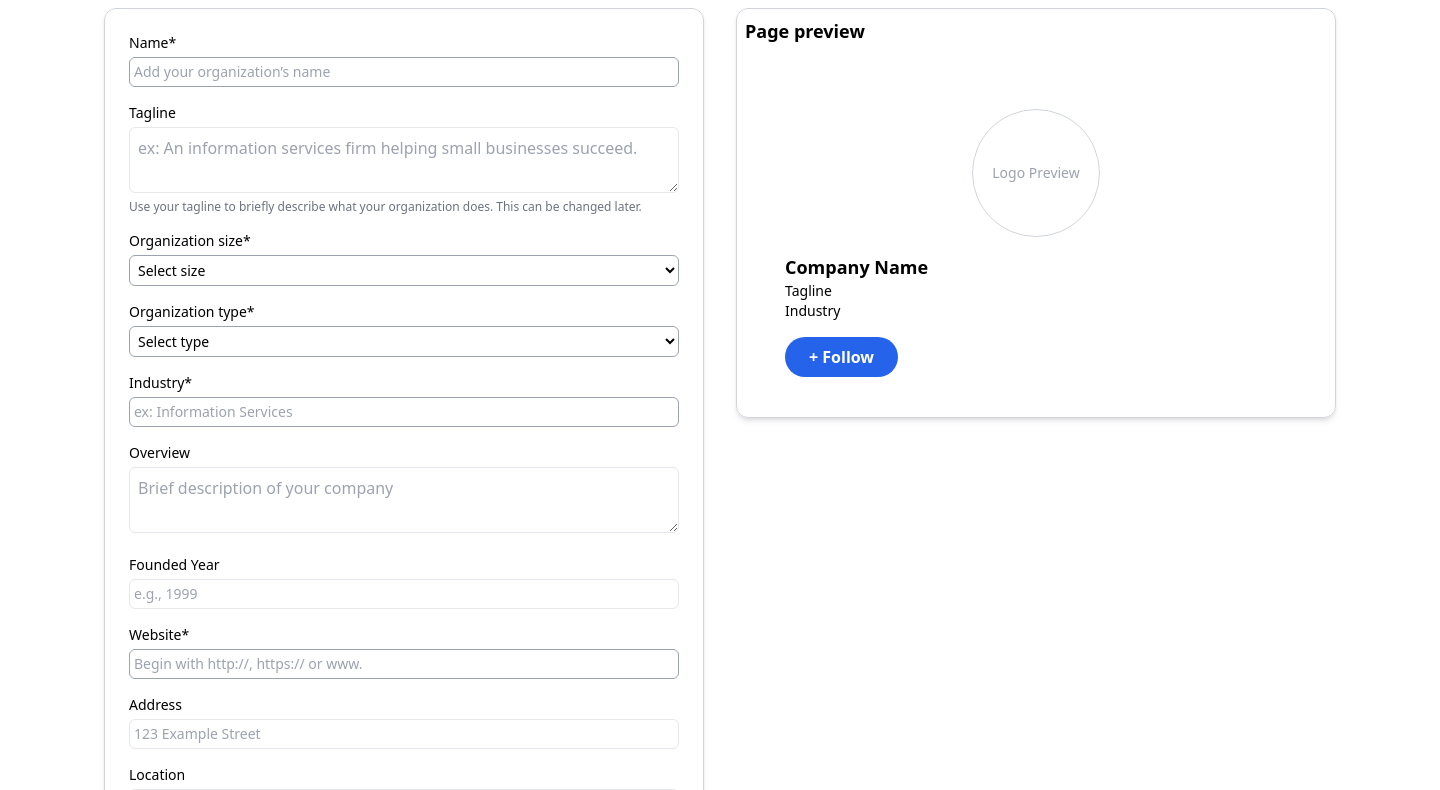
Test: CreateCompanyPage › shows error if email is missing
The image size is (1440, 790).
Type "Example Co" into the field with test id "company-name".
click(404, 72); type("Example Co")  # box x1=129 y1=57 x2=679 y2=87
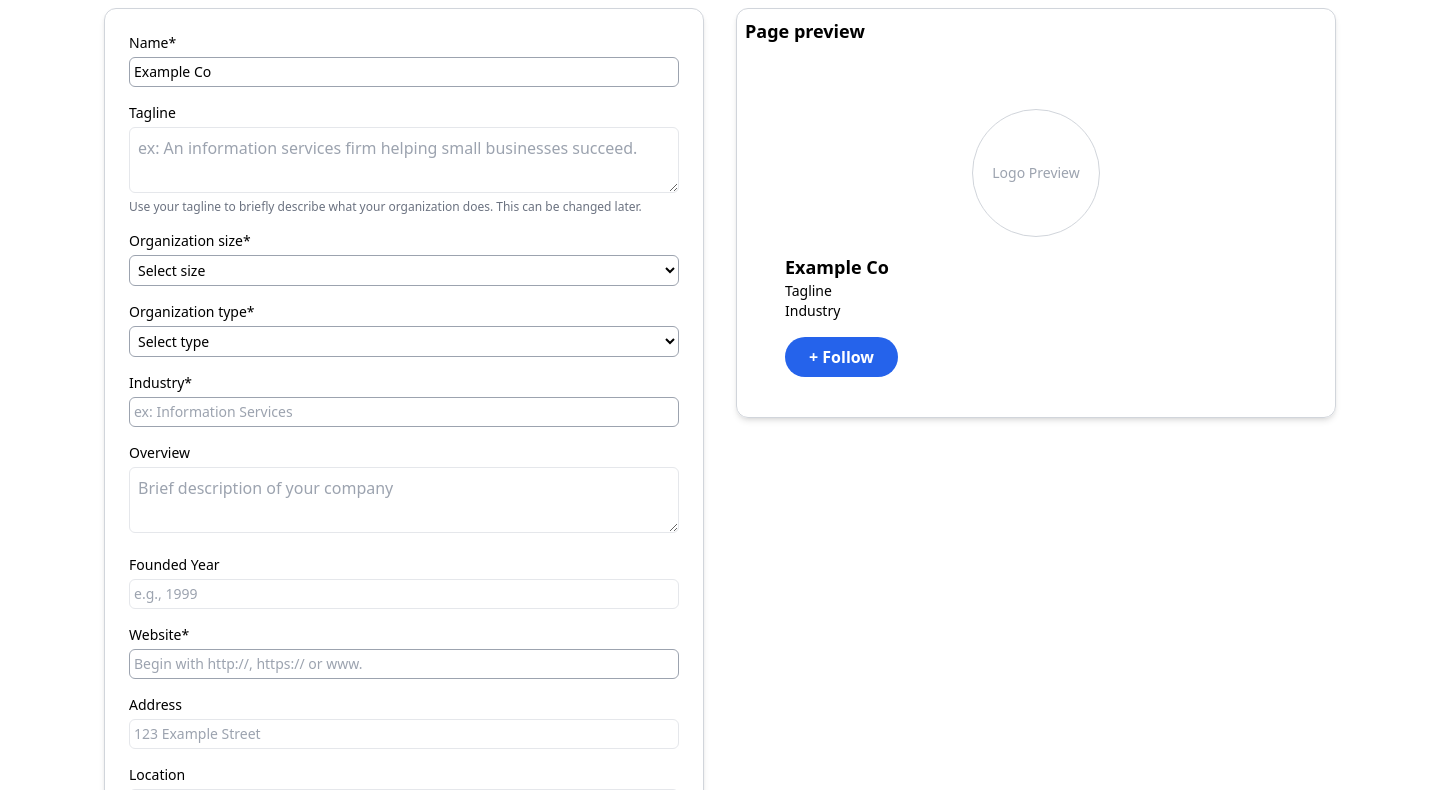
Type "Tech" into the field with test id "company-industry".
click(404, 412); type("Tech")  # box x1=129 y1=397 x2=679 y2=427
Select "1-50 Employees" in the dropdown with test id "organization-size" at (404, 270), box x1=129 y1=255 x2=679 y2=286
Select "Public Company" in the dropdown with test id "organization-type" at (404, 342), box x1=129 y1=326 x2=679 y2=357
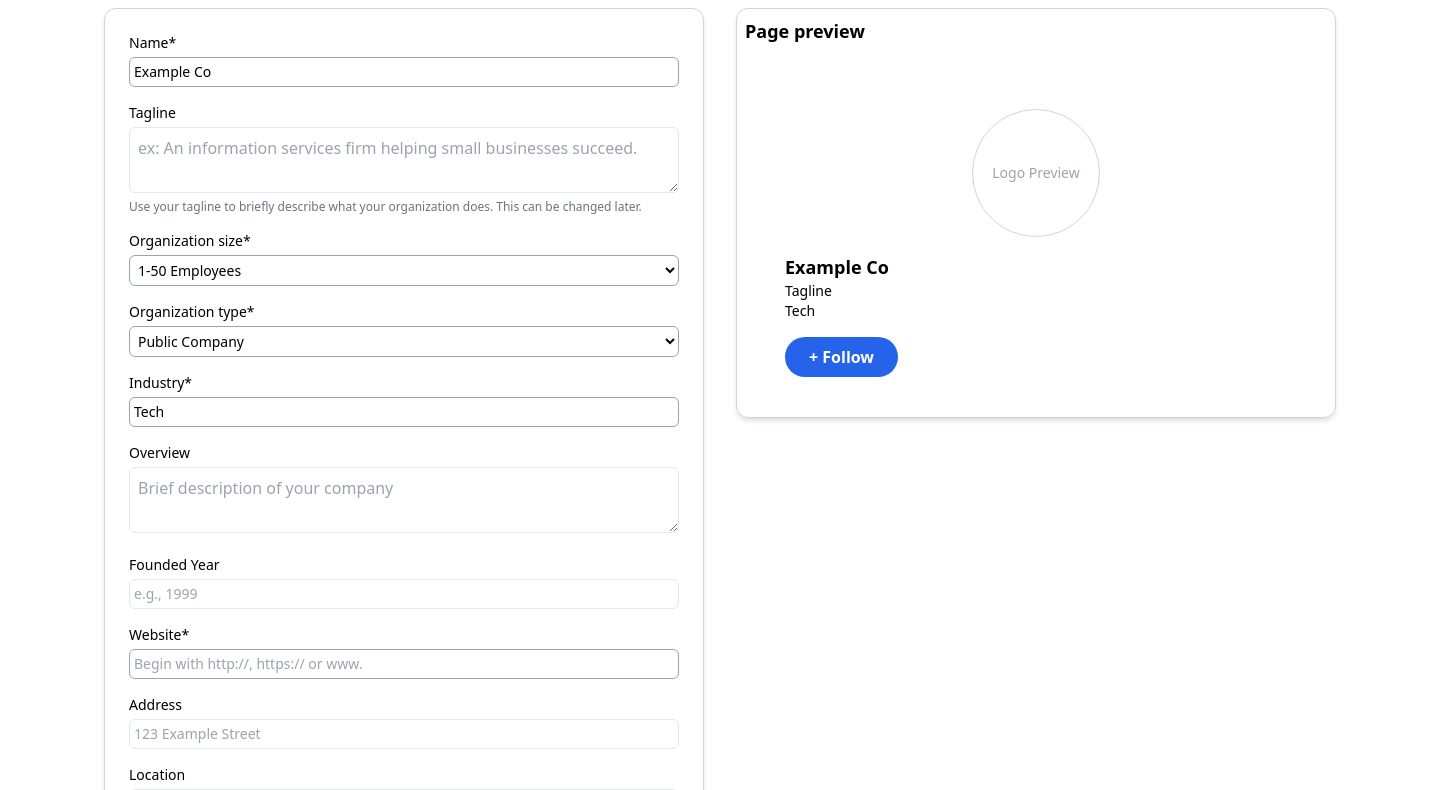
Type "https://example.com" into the field with test id "company-website".
click(404, 664); type("https://example.com")  # box x1=129 y1=649 x2=679 y2=679
(page scrolled)
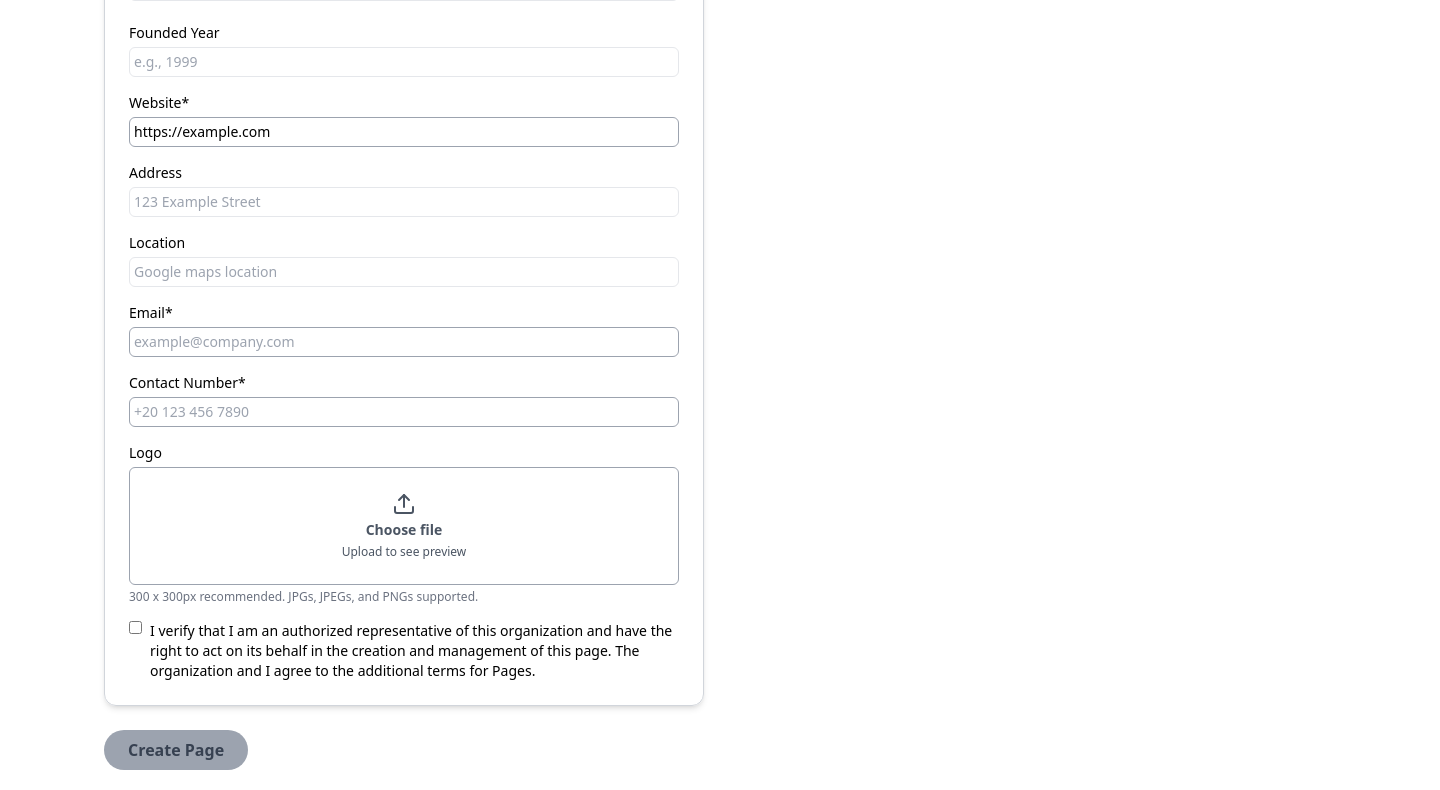
Type "+20123456789" into the field with test id "company-contactNumber".
click(404, 412); type("+20123456789")  # box x1=129 y1=397 x2=679 y2=427
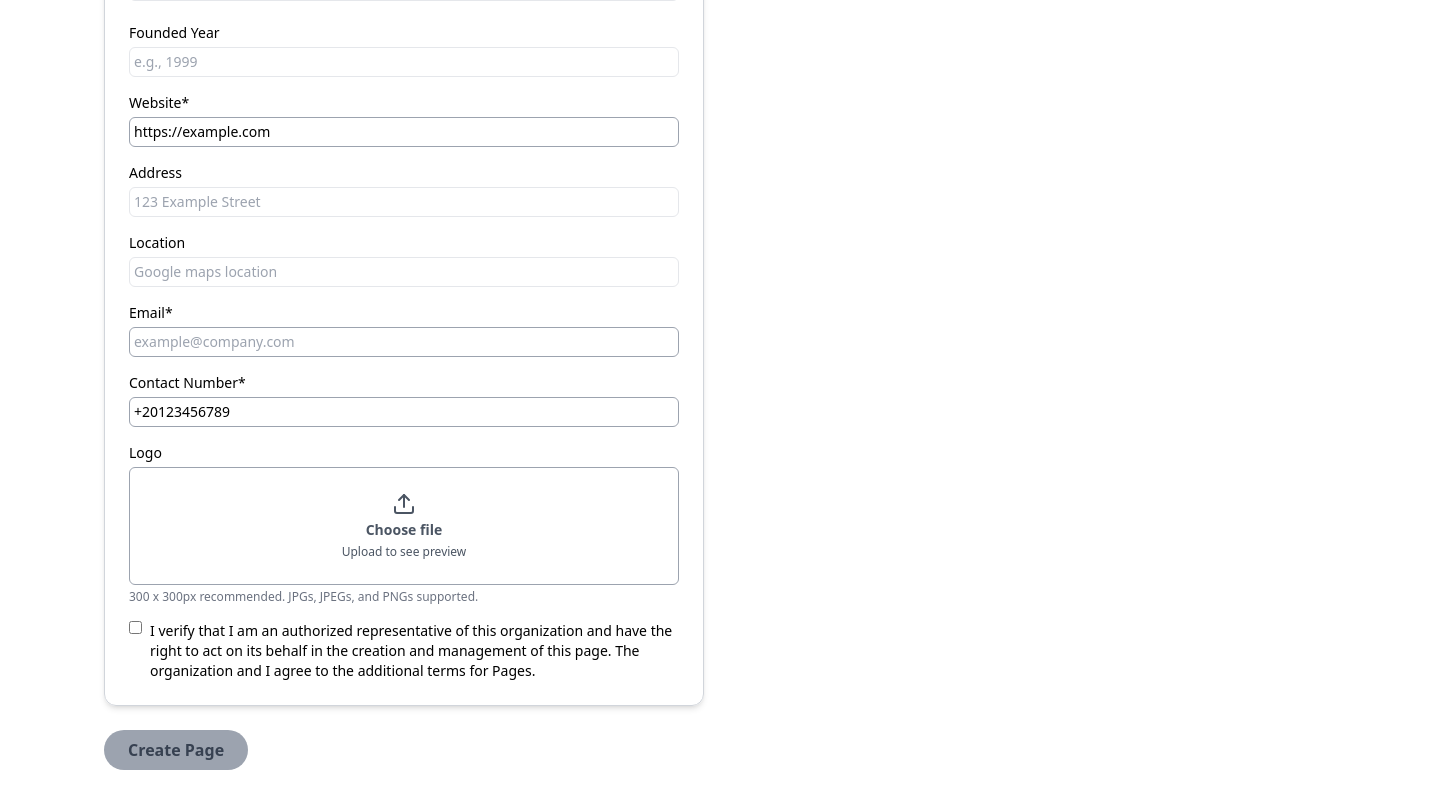
Click the checkbox with test id "agree-terms".
click(136, 628)  # box x1=129 y1=621 x2=142 y2=634
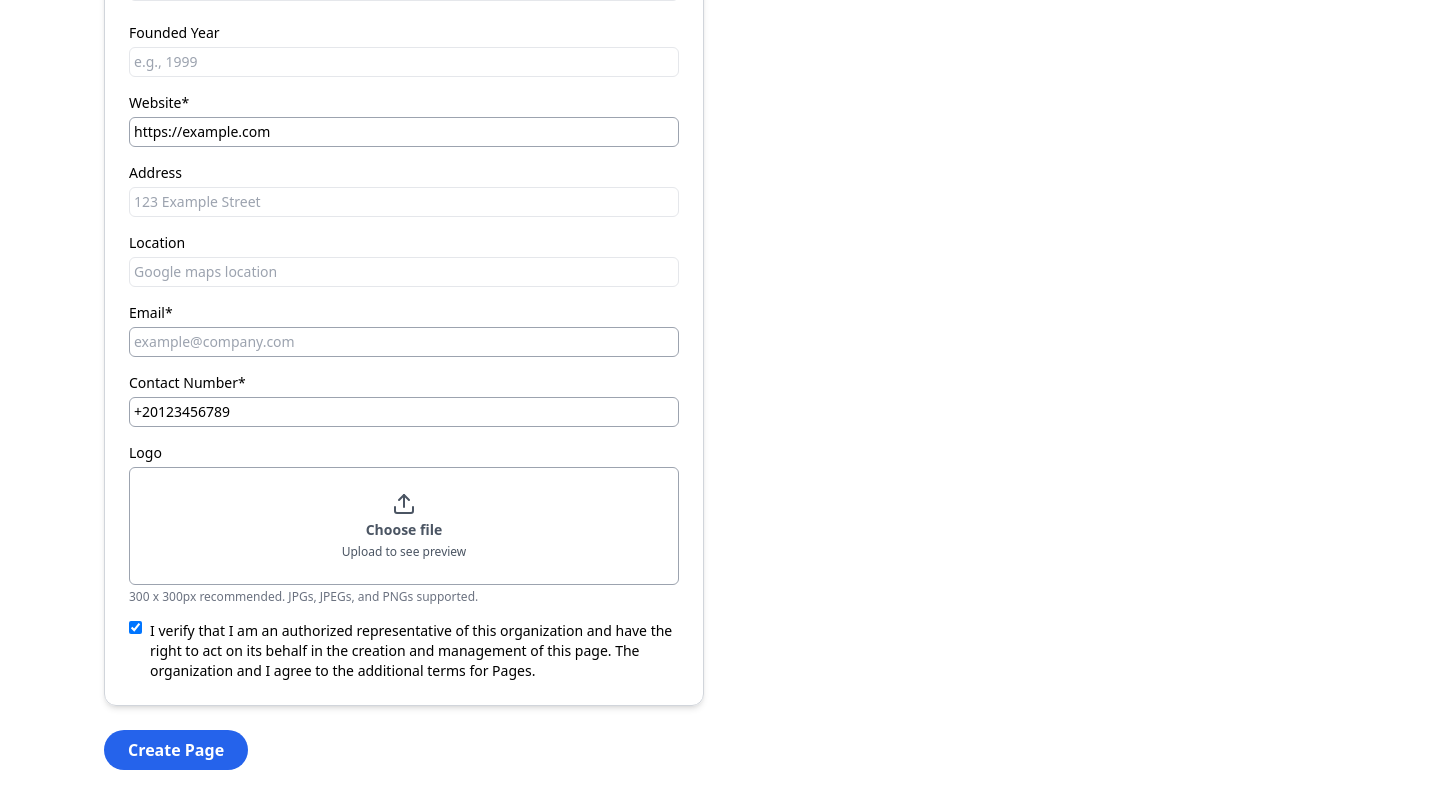
Click the button "Create Page".
click(176, 750)  # box x1=104 y1=730 x2=248 y2=770
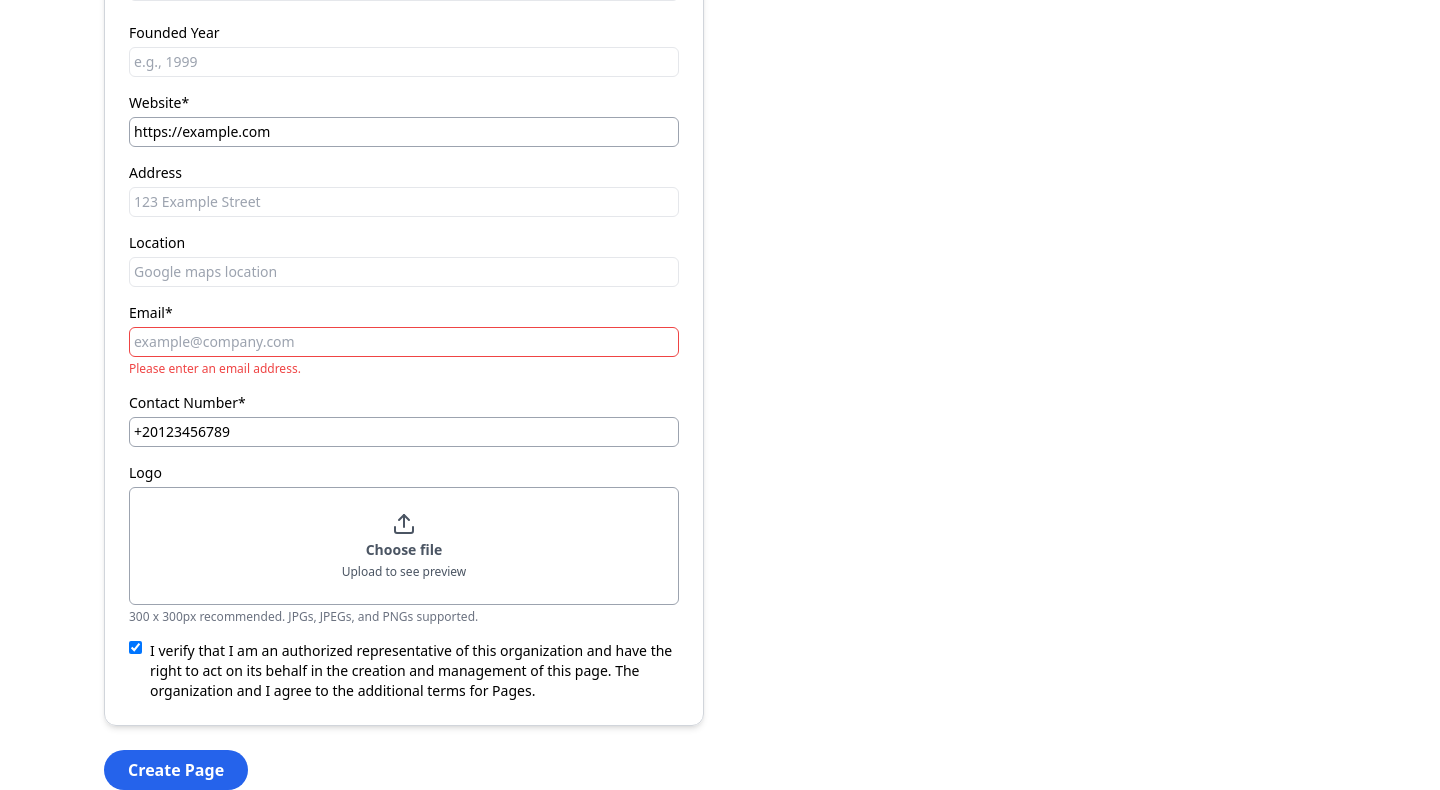
Check: the text "Please enter an email address." is shown, box x1=129 y1=360 x2=301 y2=377
